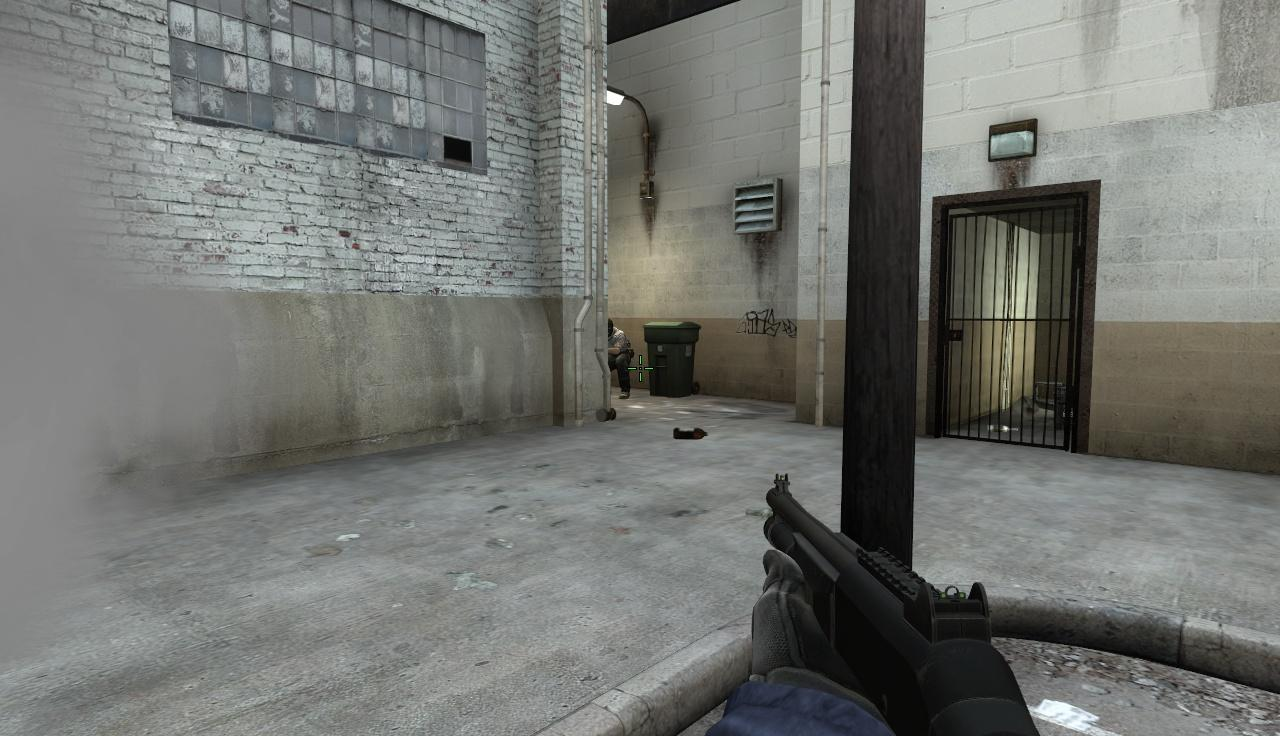shotgun: (753, 472, 1046, 734)
tt: (608, 318, 633, 399)
tthead: (608, 318, 614, 338)
